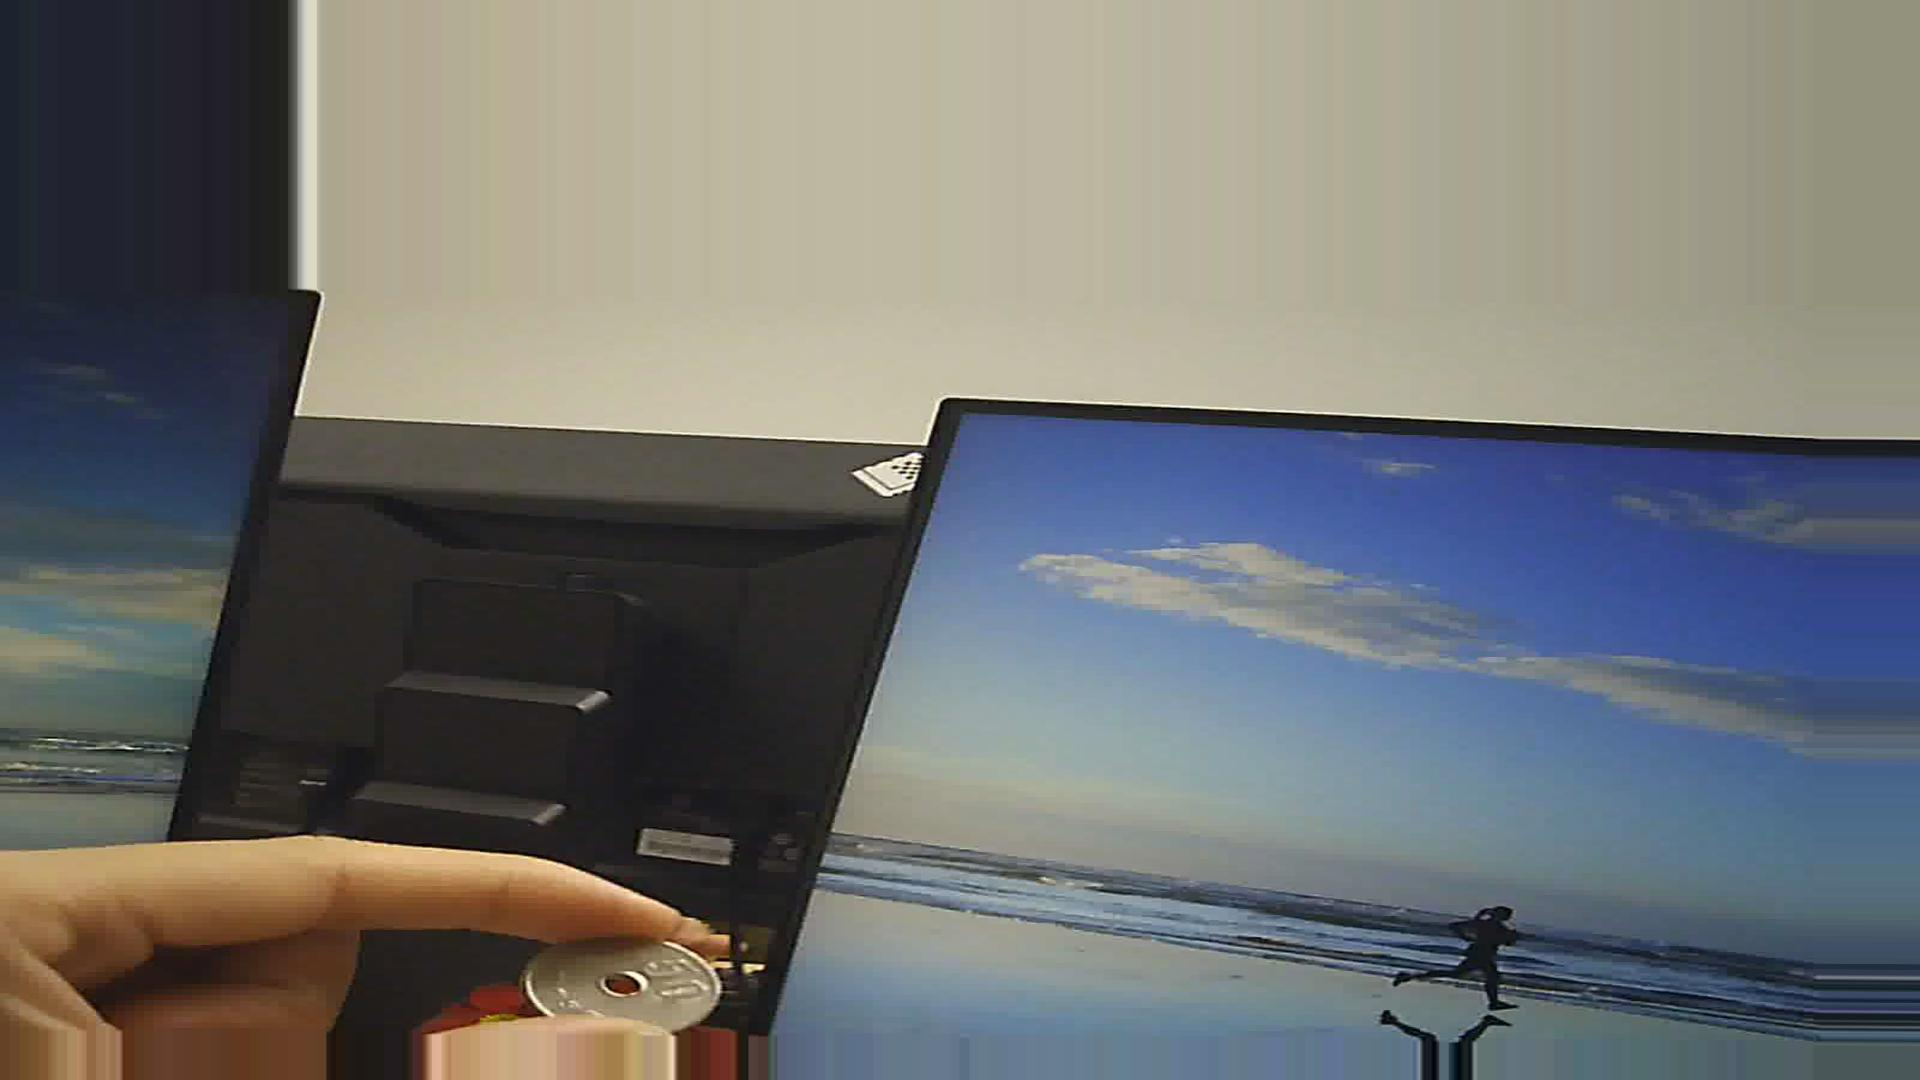50 Yen: (508, 915, 732, 1023)
